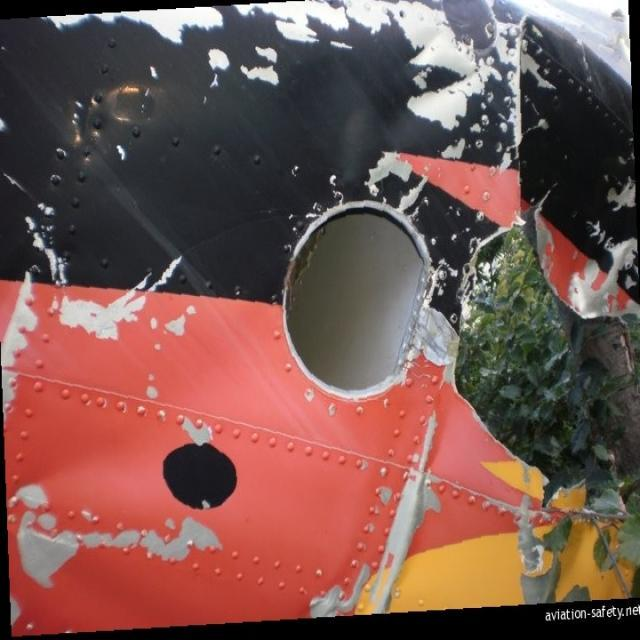dent: (291, 54, 428, 183), (13, 425, 171, 518)
